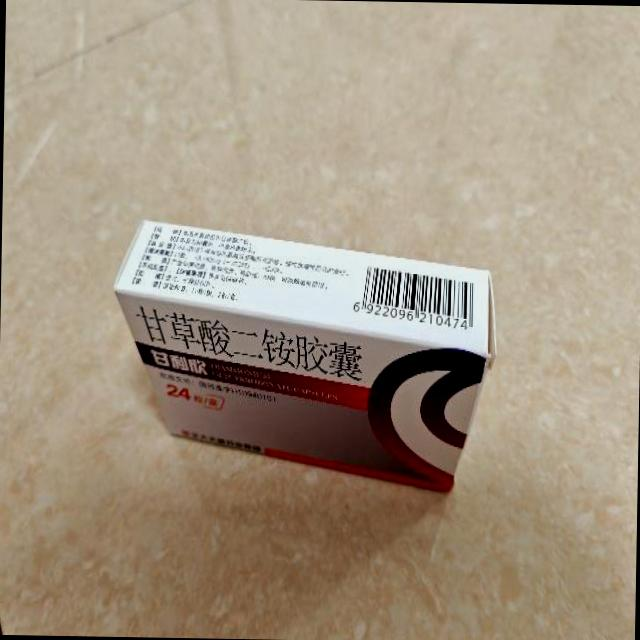box: (110, 216, 500, 494)
